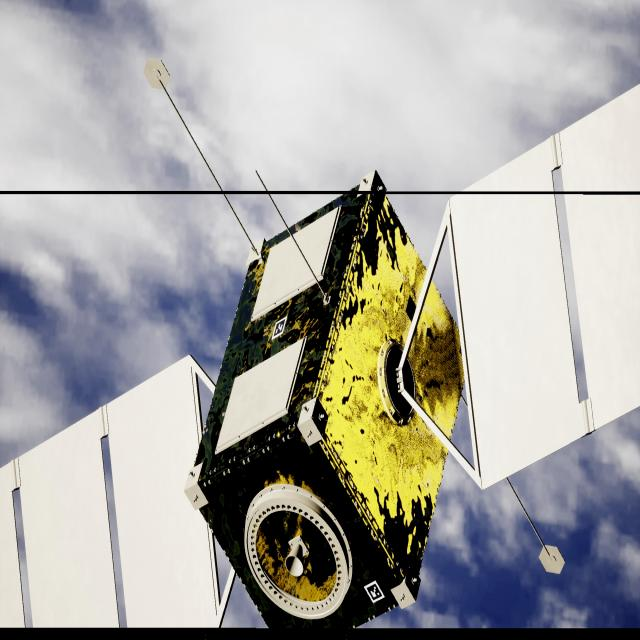medium_debris: (0, 85, 640, 640)
